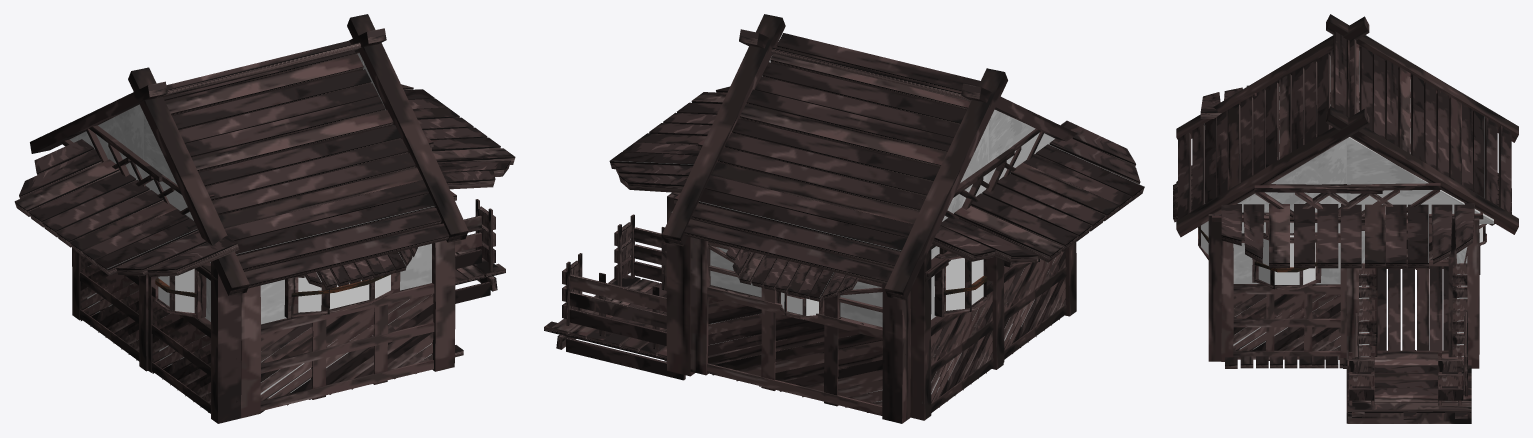
File: Herbalist-col.glb
3 views of the same model, side by side, from view 1: azimuth 30°, elevation 25°; view 2: azimuth 150°, elevation 25°; view 3: azimuth 270°, elevation 25° (orthographic). The views are drawn at different scales.
Parts seen in each view (by area): view 1: Herbalist-col; view 2: Herbalist-col; view 3: Herbalist-col.
Part boxes in pixels (left/top/right/bottom): Herbalist-col: left=14, top=14, right=515, bottom=423; Herbalist-col: left=544, top=14, right=1144, bottom=423; Herbalist-col: left=1173, top=14, right=1518, bottom=423.
Size of the model in its own units: 8.48 by 5.3 by 6.36.
Materials: 1 (1 with a texture image).
